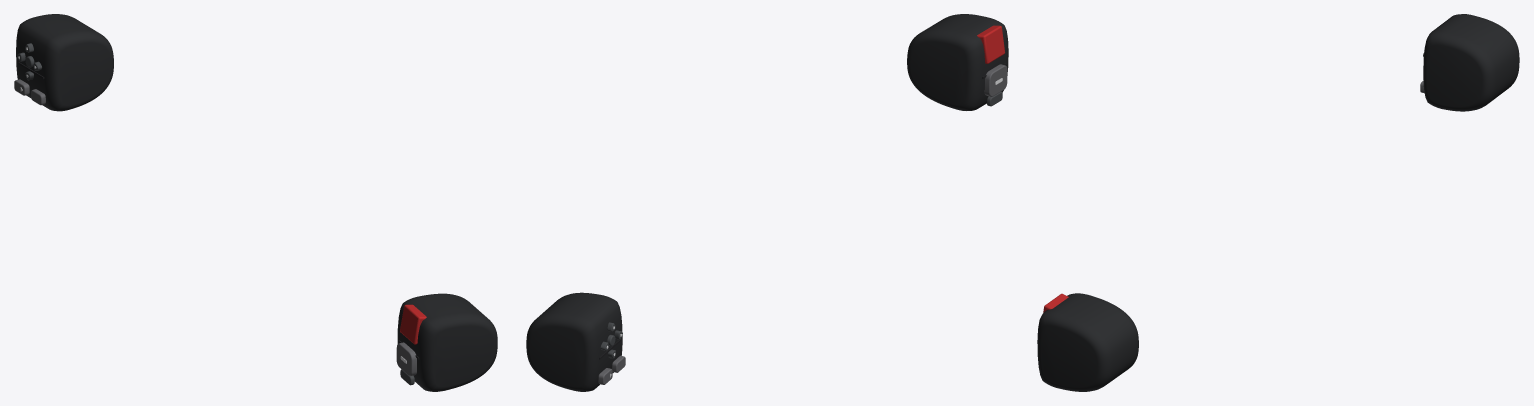
File: compact.glb
The picture shows the model from 3 angles, left to right: view 1: azimuth 30°, elevation 25°; view 2: azimuth 150°, elevation 25°; view 3: azimuth 330°, elevation 25°; orthographic projection.
Parts seen in each view (by area): view 1: switches_compact; view 2: switches_compact; view 3: switches_compact.
Boxes of the visible parts, x1=… form: switches_compact: x1=14, y1=14, x2=497, y2=391; switches_compact: x1=526, y1=14, x2=1008, y2=391; switches_compact: x1=1037, y1=14, x2=1519, y2=391.
Bounding box in the file's own units: 0.0564 × 0.0506 × 0.5062.
